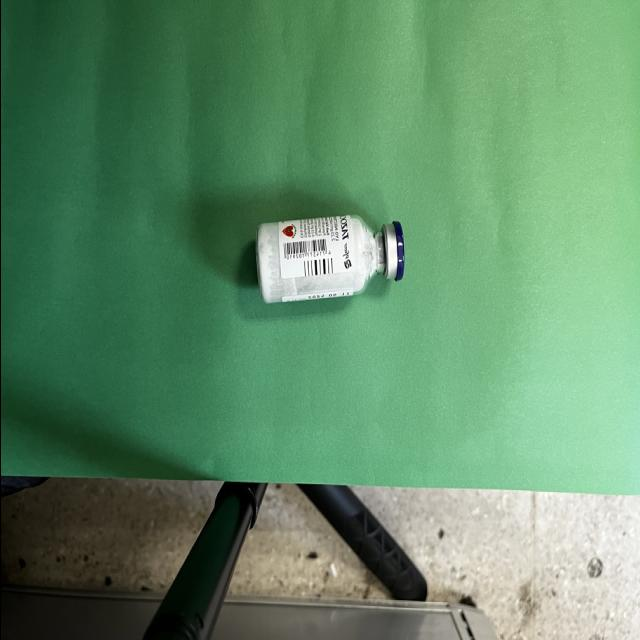Vials: (255, 215, 404, 303)
